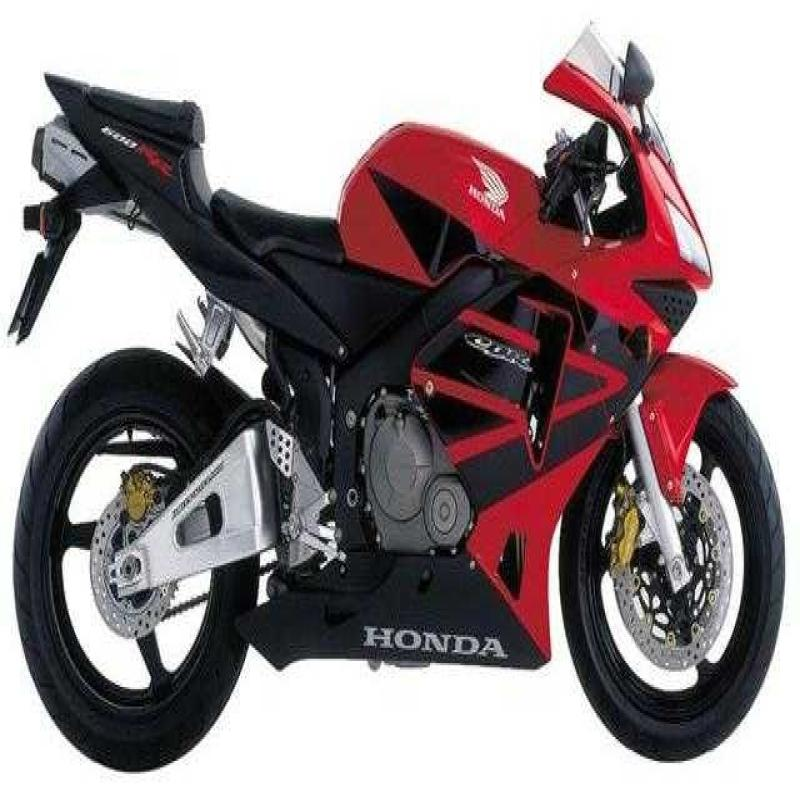bike: (14, 13, 800, 774)
